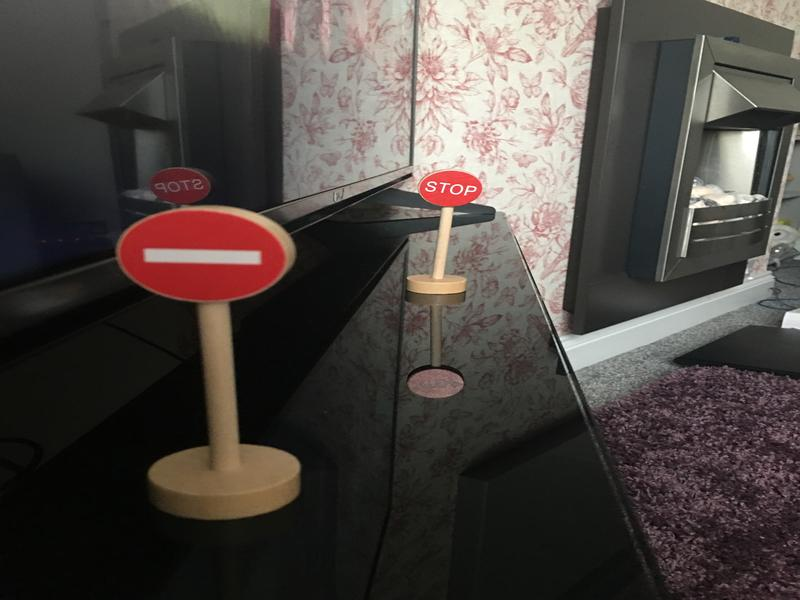Traffic_Sign_No_Entry: (116, 210, 287, 302)
Traffic_Sign_Stop: (419, 171, 482, 206)
